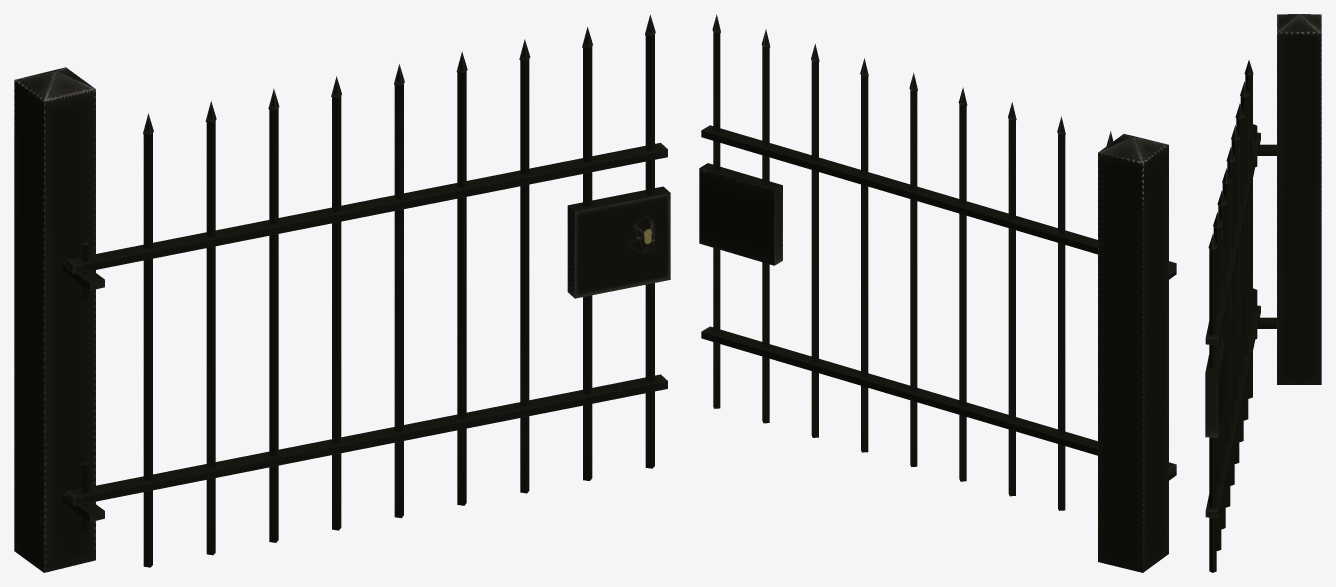
Rendered from Model_Furtka_Cmentarz.fbx.
The picture shows the model from 3 angles, left to right: view 1: azimuth 30°, elevation 25°; view 2: azimuth 150°, elevation 25°; view 3: azimuth 270°, elevation 25°; orthographic projection. The views are drawn at different scales.
Visible parts, largest first — view 1: Plane; view 2: Plane; view 3: Plane.
Part boxes in pixels (bbox=[...]): Plane: bbox=[14, 14, 670, 572]; Plane: bbox=[699, 14, 1176, 572]; Plane: bbox=[1205, 14, 1321, 572].
Bounding box in the file's own units: 53.92 × 185 × 232.
